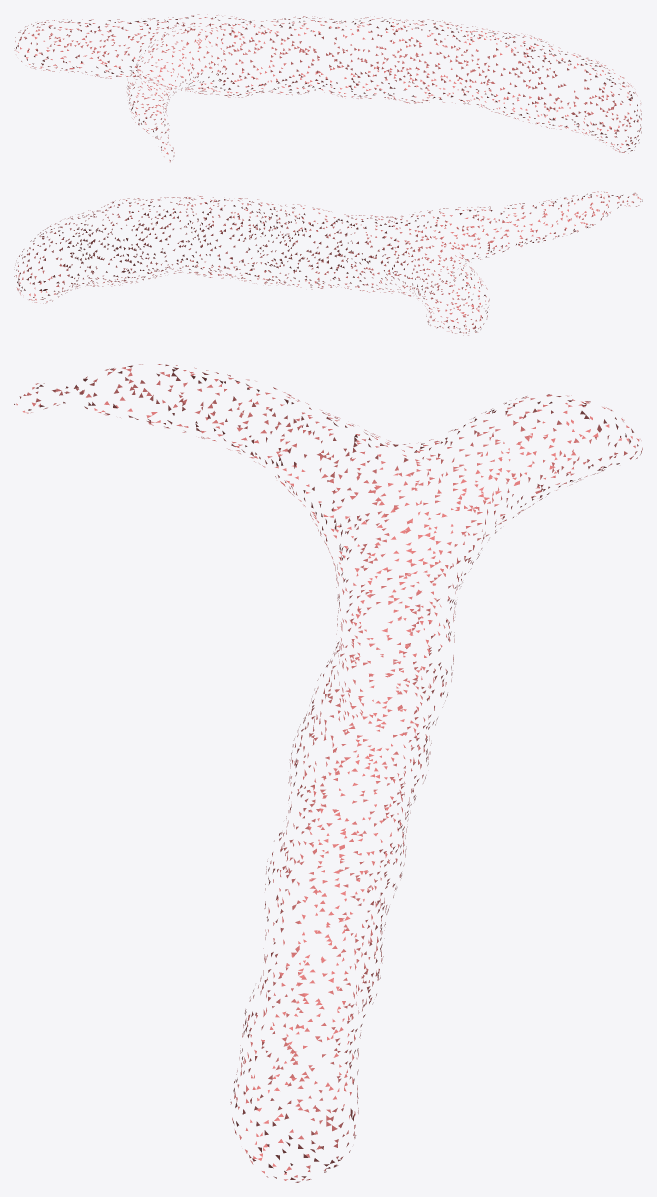
The model's file is morph_000.glb.
3 renders of one model, top to bottom at view 1: azimuth 30°, elevation 25°; view 2: azimuth 150°, elevation 25°; view 3: azimuth 270°, elevation 25°, orthographic. The views are drawn at different scales.
Size of the model in its own units: 143 by 51.16 by 78.55.
